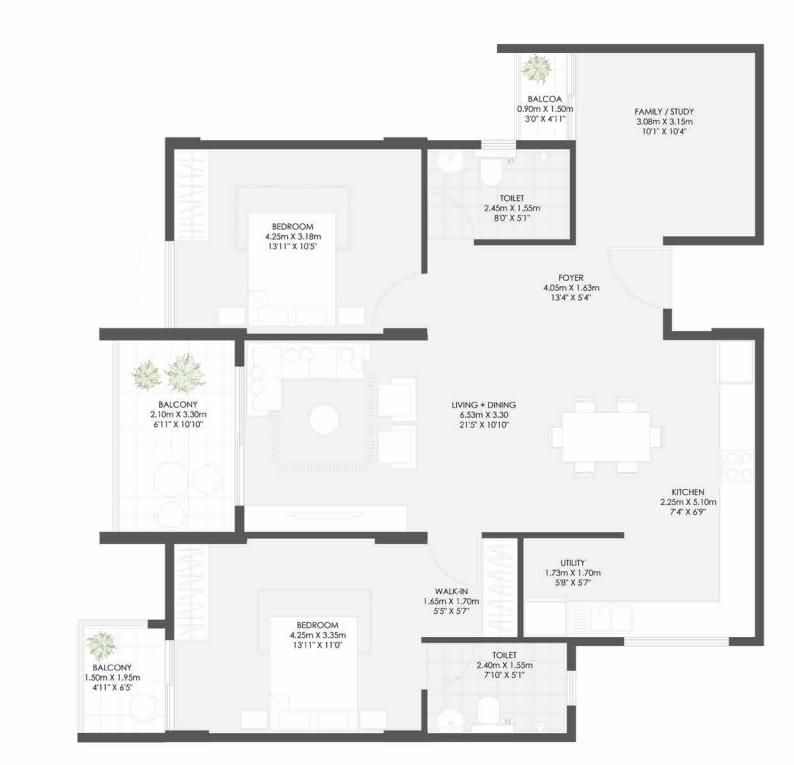Balcony: (106, 340, 236, 529), (82, 619, 167, 732)
Bed: (265, 612, 357, 735), (244, 212, 337, 331)
Bedroom: (173, 541, 422, 737), (174, 149, 426, 332)
Dining Room: (460, 331, 670, 529)
Dining table: (549, 385, 666, 484)
Foyer: (430, 242, 677, 327)
Kitchen: (641, 334, 756, 638)
Living Room: (242, 344, 456, 532)
Sofa: (242, 342, 369, 383), (375, 374, 420, 471), (244, 342, 286, 416), (309, 402, 338, 431)
Wardrobe: (172, 542, 210, 644), (482, 535, 517, 635), (174, 150, 209, 240)
balcoa: (517, 51, 572, 140)
commode: (480, 158, 503, 186), (478, 699, 498, 723)
door: (610, 245, 679, 311), (427, 535, 483, 595), (369, 273, 428, 325)
fridge: (715, 338, 755, 384)
kitchen-slab: (719, 387, 754, 636), (569, 599, 754, 638)
sink: (438, 155, 465, 176), (438, 711, 462, 734)
stove: (719, 449, 756, 484)
study: (577, 57, 754, 236)
toilet: (426, 641, 570, 736), (429, 152, 573, 238)
tv: (244, 502, 409, 535)
utility: (523, 541, 624, 634)
walkin: (421, 538, 520, 637)
washing-machine: (523, 600, 567, 635)
